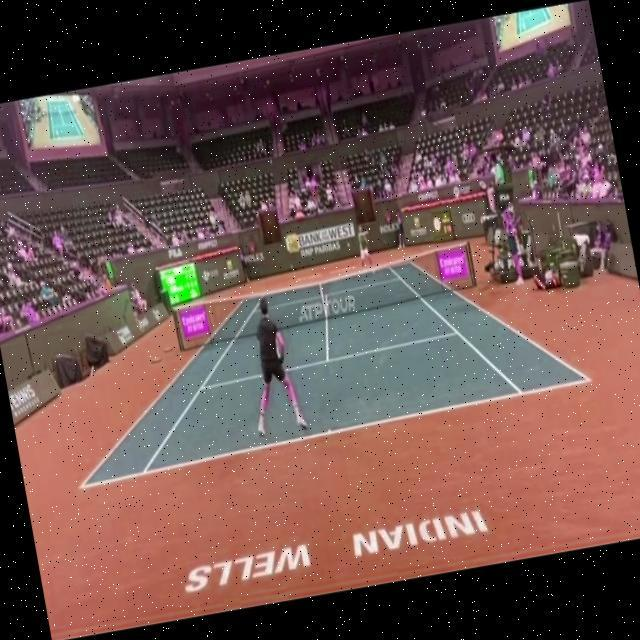court: (49, 232, 596, 490)
net: (168, 242, 480, 344)
player: (234, 292, 308, 438)
